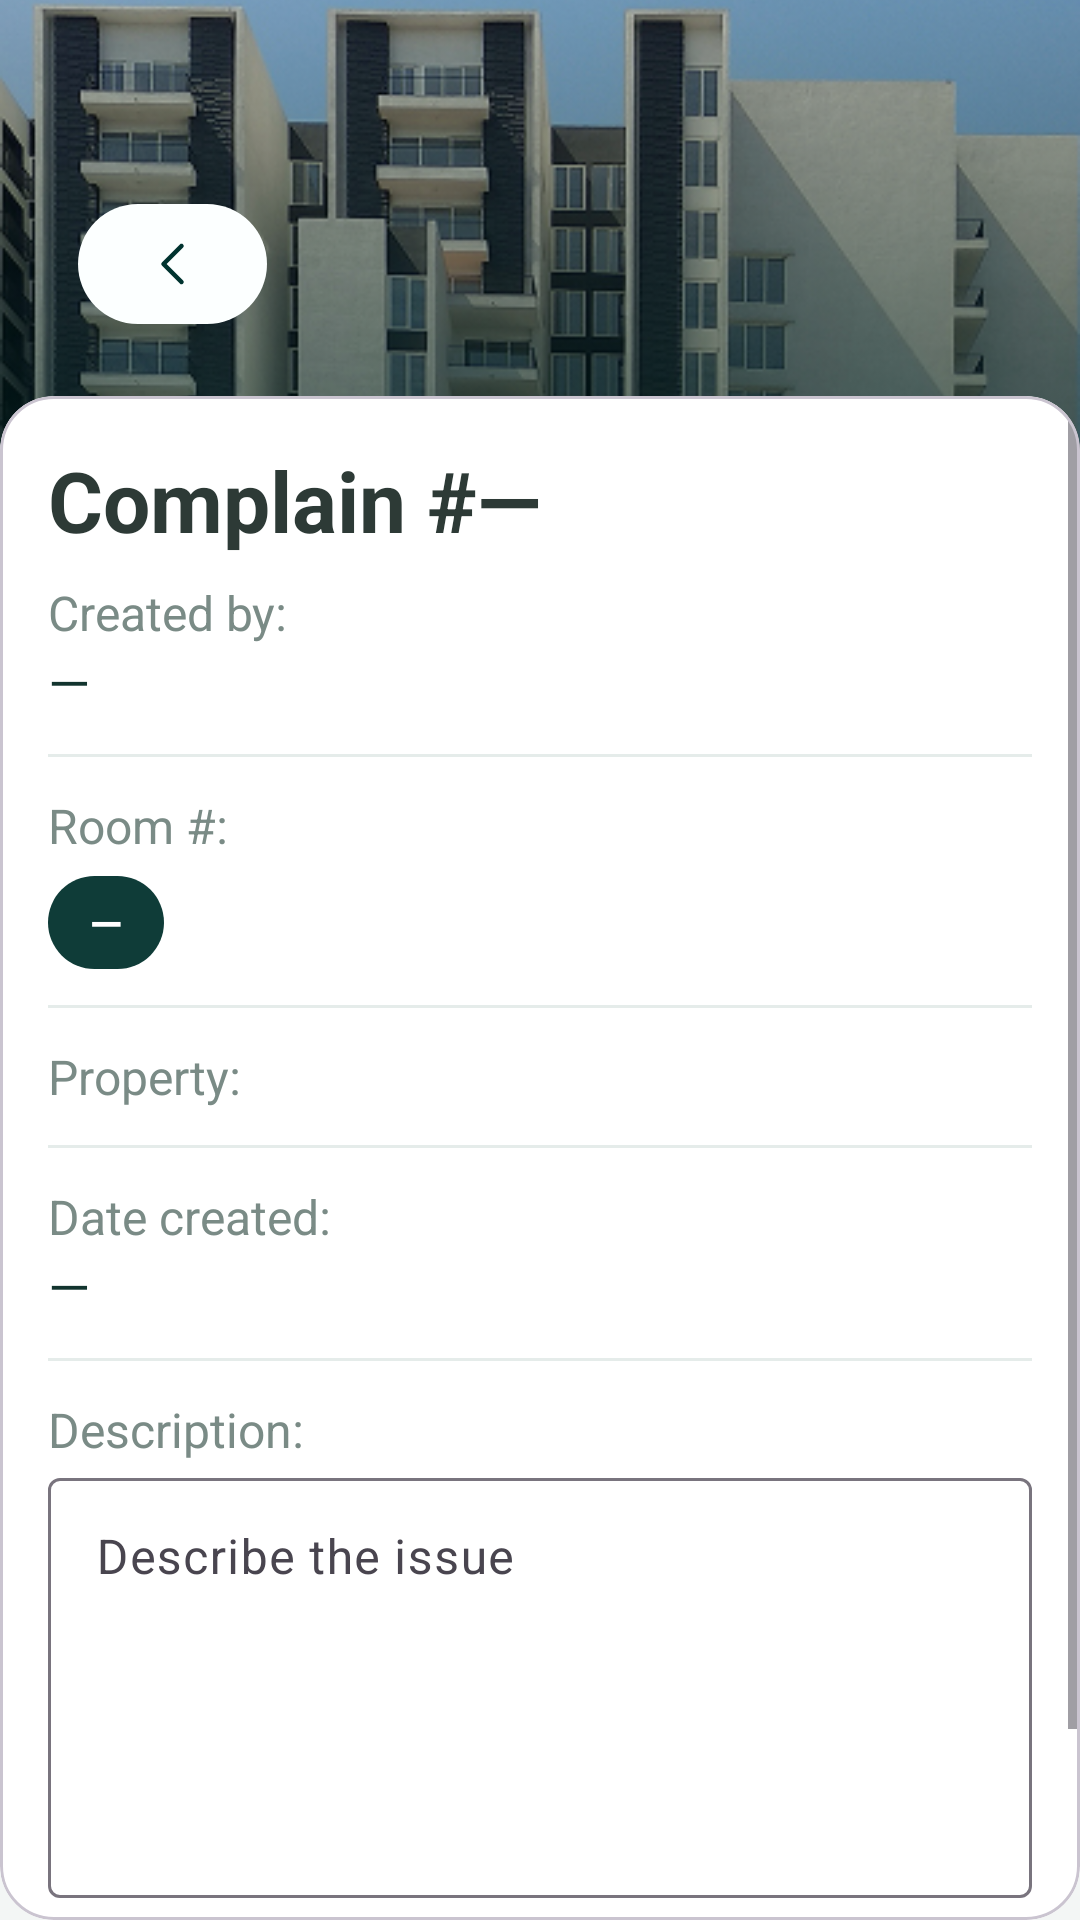

Where to tap for icons on this 1080 x 1920 app screen, as point (x, y):
back: point (172, 264)
